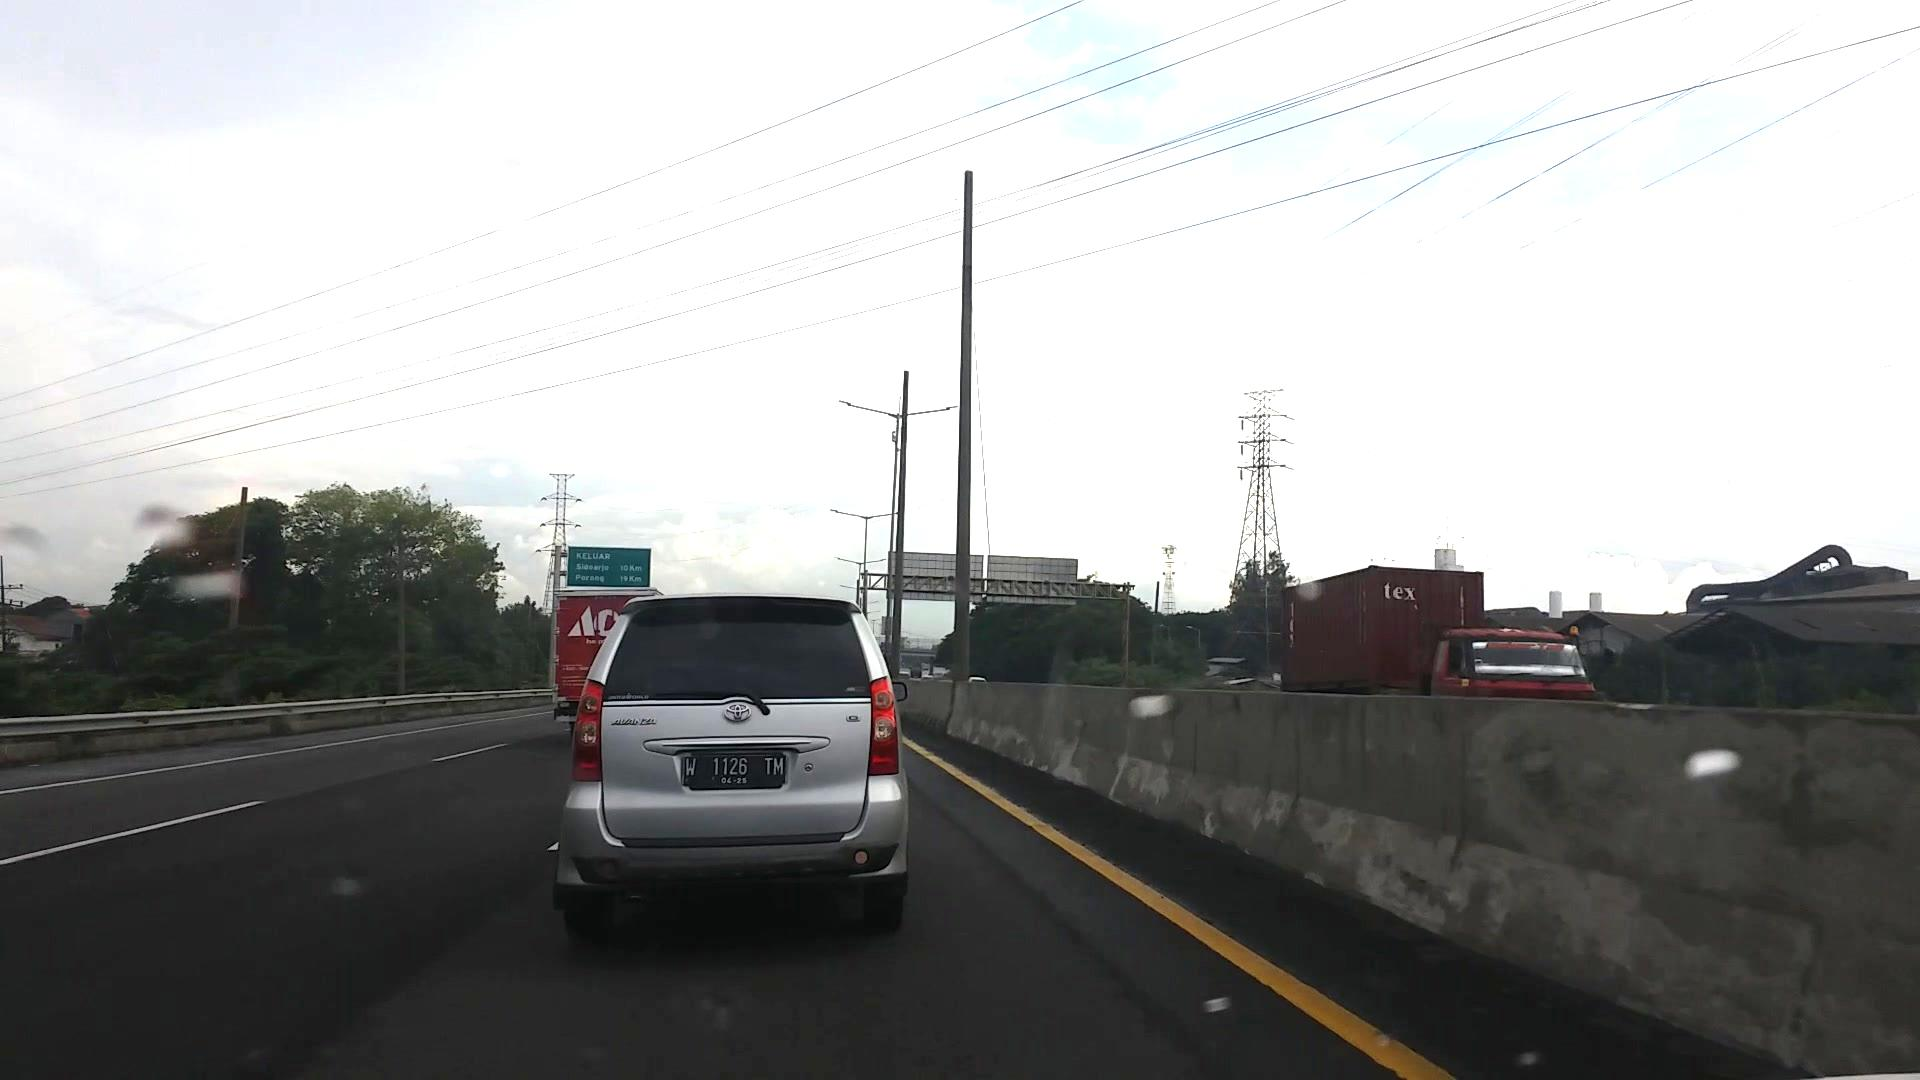plate_positive: (680, 753, 786, 789)
